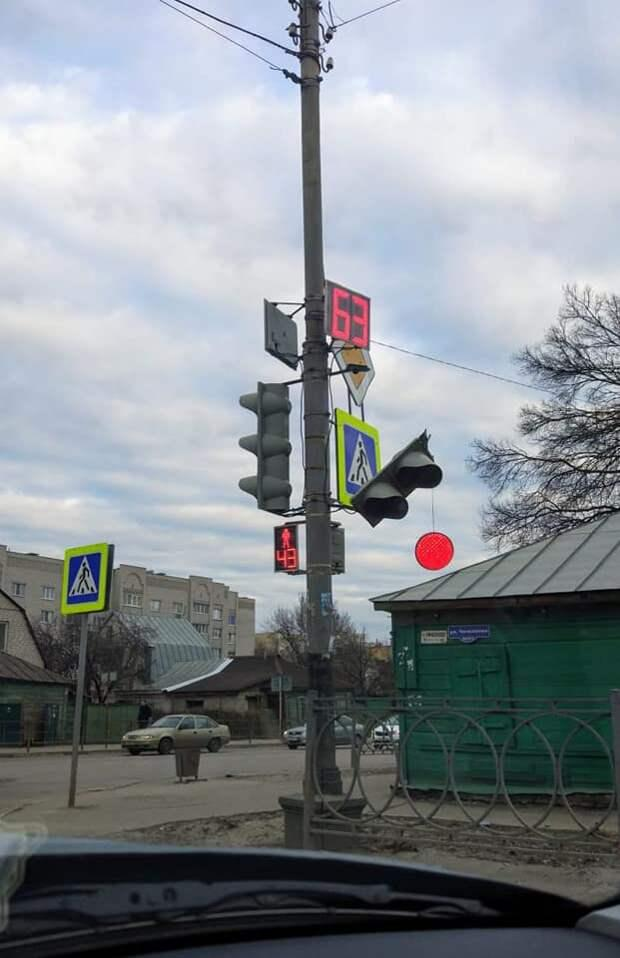obstructed_road_sign: (331, 338, 375, 407)
off traffic light: (352, 431, 441, 527), (239, 381, 292, 515)
road_sign: (336, 408, 380, 507), (61, 544, 108, 612), (326, 280, 370, 351)
traffic light: (275, 525, 298, 572)
